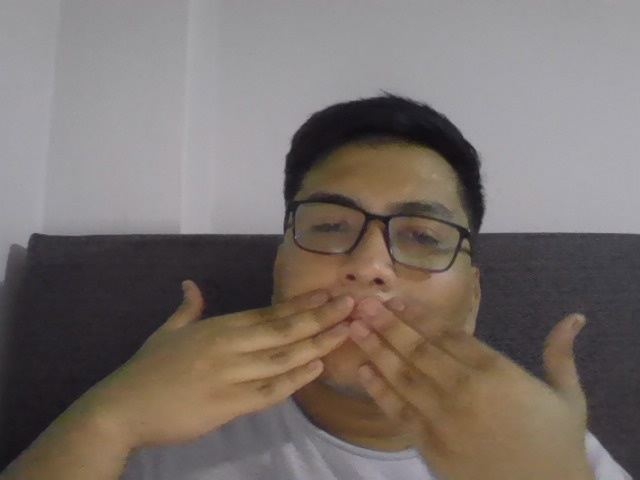Thanks: (120, 269, 604, 480)
